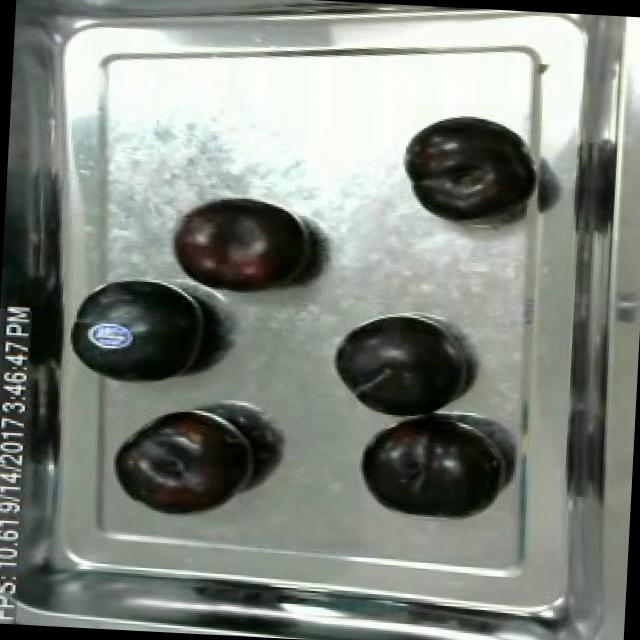Fruit: (108, 399, 266, 523), (70, 270, 220, 392), (165, 192, 322, 304), (352, 406, 496, 525), (324, 312, 472, 423), (398, 110, 534, 221)
